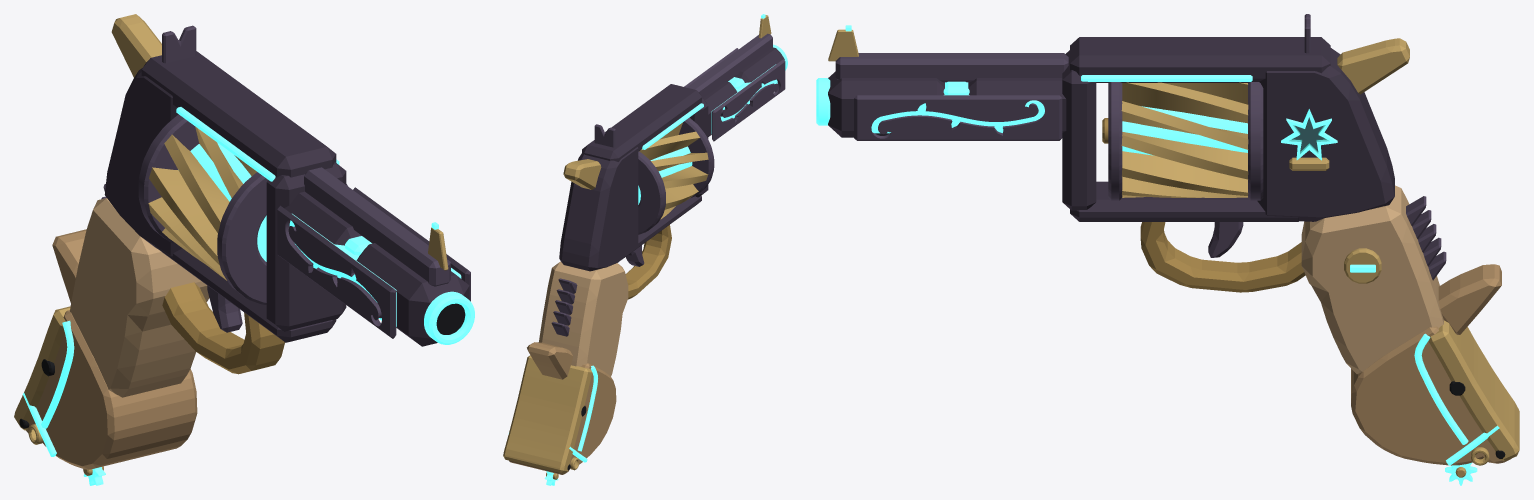
The model's file is w_revolver@revolver_star.glb.
3 views of the same model, side by side, from view 1: azimuth 30°, elevation 25°; view 2: azimuth 150°, elevation 25°; view 3: azimuth 270°, elevation 25° (orthographic). The views are drawn at different scales.
Visible parts, largest first — view 1: body_wzA__metal__p3e3546, grip_wzA__wood__pc8a67c, grip_wzA__wood2__pb39066, cylinder_wzB__brass2__pc4a463, cylinder_wzN__metal2__p51465c, barrel_wzA__metal2__p51465c, barrel_wzB__metal__p3e3546, body_wzN__brass__pa8874a, barrel_wzB__metal2__p51465c, barrel_wzN__glow__n4effed, grip_wzN__brass2__pc4a463, hammer_wzN__brass2__pc4a463 (+7 smaller); view 2: body_wzA__metal__p3e3546, grip_wzN__brass2__pc4a463, grip_wzA__wood__pc8a67c, grip_wzA__wood2__pb39066, cylinder_wzN__metal2__p51465c, cylinder_wzB__brass2__pc4a463, barrel_wzA__metal2__p51465c, barrel_wzB__metal2__p51465c, body_wzN__brass__pa8874a, barrel_wzB__metal__p3e3546, grip_wzN__metal2__p51465c, hammer_wzN__brass2__pc4a463 (+5 smaller); view 3: body_wzA__metal__p3e3546, grip_wzA__wood__pc8a67c, grip_wzA__wood2__pb39066, cylinder_wzB__brass2__pc4a463, barrel_wzA__metal2__p51465c, grip_wzN__brass2__pc4a463, barrel_wzB__metal2__p51465c, body_wzN__brass__pa8874a, barrel_wzB__metal__p3e3546, cylinder_wzN__metal2__p51465c, hammer_wzN__brass2__pc4a463, barrel_wzN__glow__n4effed (+6 smaller).
Boxes of the visible parts, x1,y1,x2,y2 form: body_wzA__metal__p3e3546: [104, 51, 346, 342]; grip_wzA__wood__pc8a67c: [70, 198, 209, 397]; grip_wzA__wood2__pb39066: [26, 229, 197, 469]; cylinder_wzB__brass2__pc4a463: [148, 126, 256, 280]; cylinder_wzN__metal2__p51465c: [138, 114, 347, 304]; barrel_wzA__metal2__p51465c: [277, 187, 470, 338]; barrel_wzB__metal__p3e3546: [284, 191, 469, 346]; body_wzN__brass__pa8874a: [162, 282, 284, 374]; barrel_wzB__metal2__p51465c: [304, 167, 450, 286]; barrel_wzN__glow__n4effed: [289, 213, 474, 344]; grip_wzN__brass2__pc4a463: [14, 306, 70, 444]; hammer_wzN__brass2__pc4a463: [111, 14, 161, 77]; body_wzA__metal__p3e3546: [559, 84, 708, 271]; grip_wzN__brass2__pc4a463: [503, 355, 592, 473]; grip_wzA__wood__pc8a67c: [538, 261, 628, 376]; grip_wzA__wood2__pb39066: [509, 342, 616, 474]; cylinder_wzN__metal2__p51465c: [638, 117, 714, 234]; cylinder_wzB__brass2__pc4a463: [639, 122, 708, 219]; barrel_wzA__metal2__p51465c: [684, 48, 785, 141]; barrel_wzB__metal2__p51465c: [687, 33, 772, 98]; body_wzN__brass__pa8874a: [625, 225, 671, 299]; barrel_wzB__metal__p3e3546: [703, 47, 784, 136]; grip_wzN__metal2__p51465c: [551, 278, 577, 336]; hammer_wzN__brass2__pc4a463: [563, 159, 601, 189]; body_wzA__metal__p3e3546: [1062, 37, 1394, 221]; grip_wzA__wood__pc8a67c: [1301, 185, 1443, 374]; grip_wzA__wood2__pb39066: [1351, 264, 1511, 465]; cylinder_wzB__brass2__pc4a463: [1121, 82, 1248, 197]; barrel_wzA__metal2__p51465c: [854, 95, 1062, 140]; grip_wzN__brass2__pc4a463: [1344, 248, 1519, 465]; barrel_wzB__metal2__p51465c: [835, 53, 1068, 82]; body_wzN__brass__pa8874a: [1140, 222, 1305, 292]; barrel_wzB__metal__p3e3546: [828, 71, 1066, 137]; cylinder_wzN__metal2__p51465c: [1108, 82, 1263, 200]; hammer_wzN__brass2__pc4a463: [1337, 38, 1409, 94]; barrel_wzN__glow__n4effed: [816, 78, 1044, 133].
Bounding box in the file's own units: 0.0904 × 0.334 × 0.4587.
